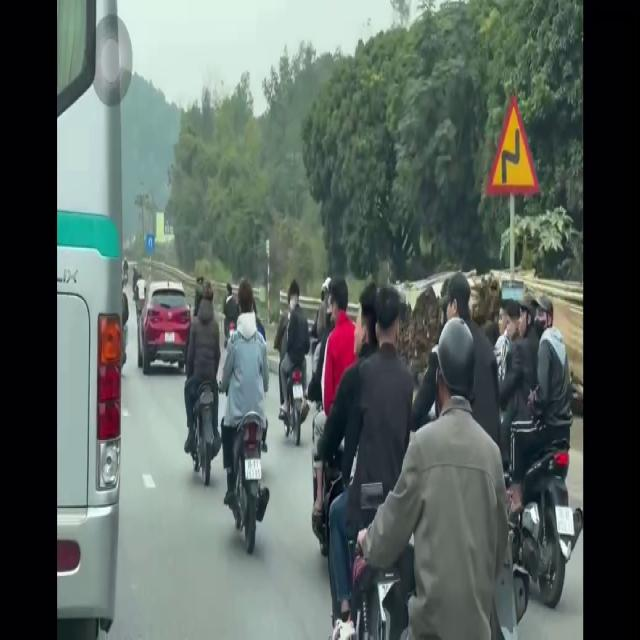no_helmet: (238, 276, 257, 330)
